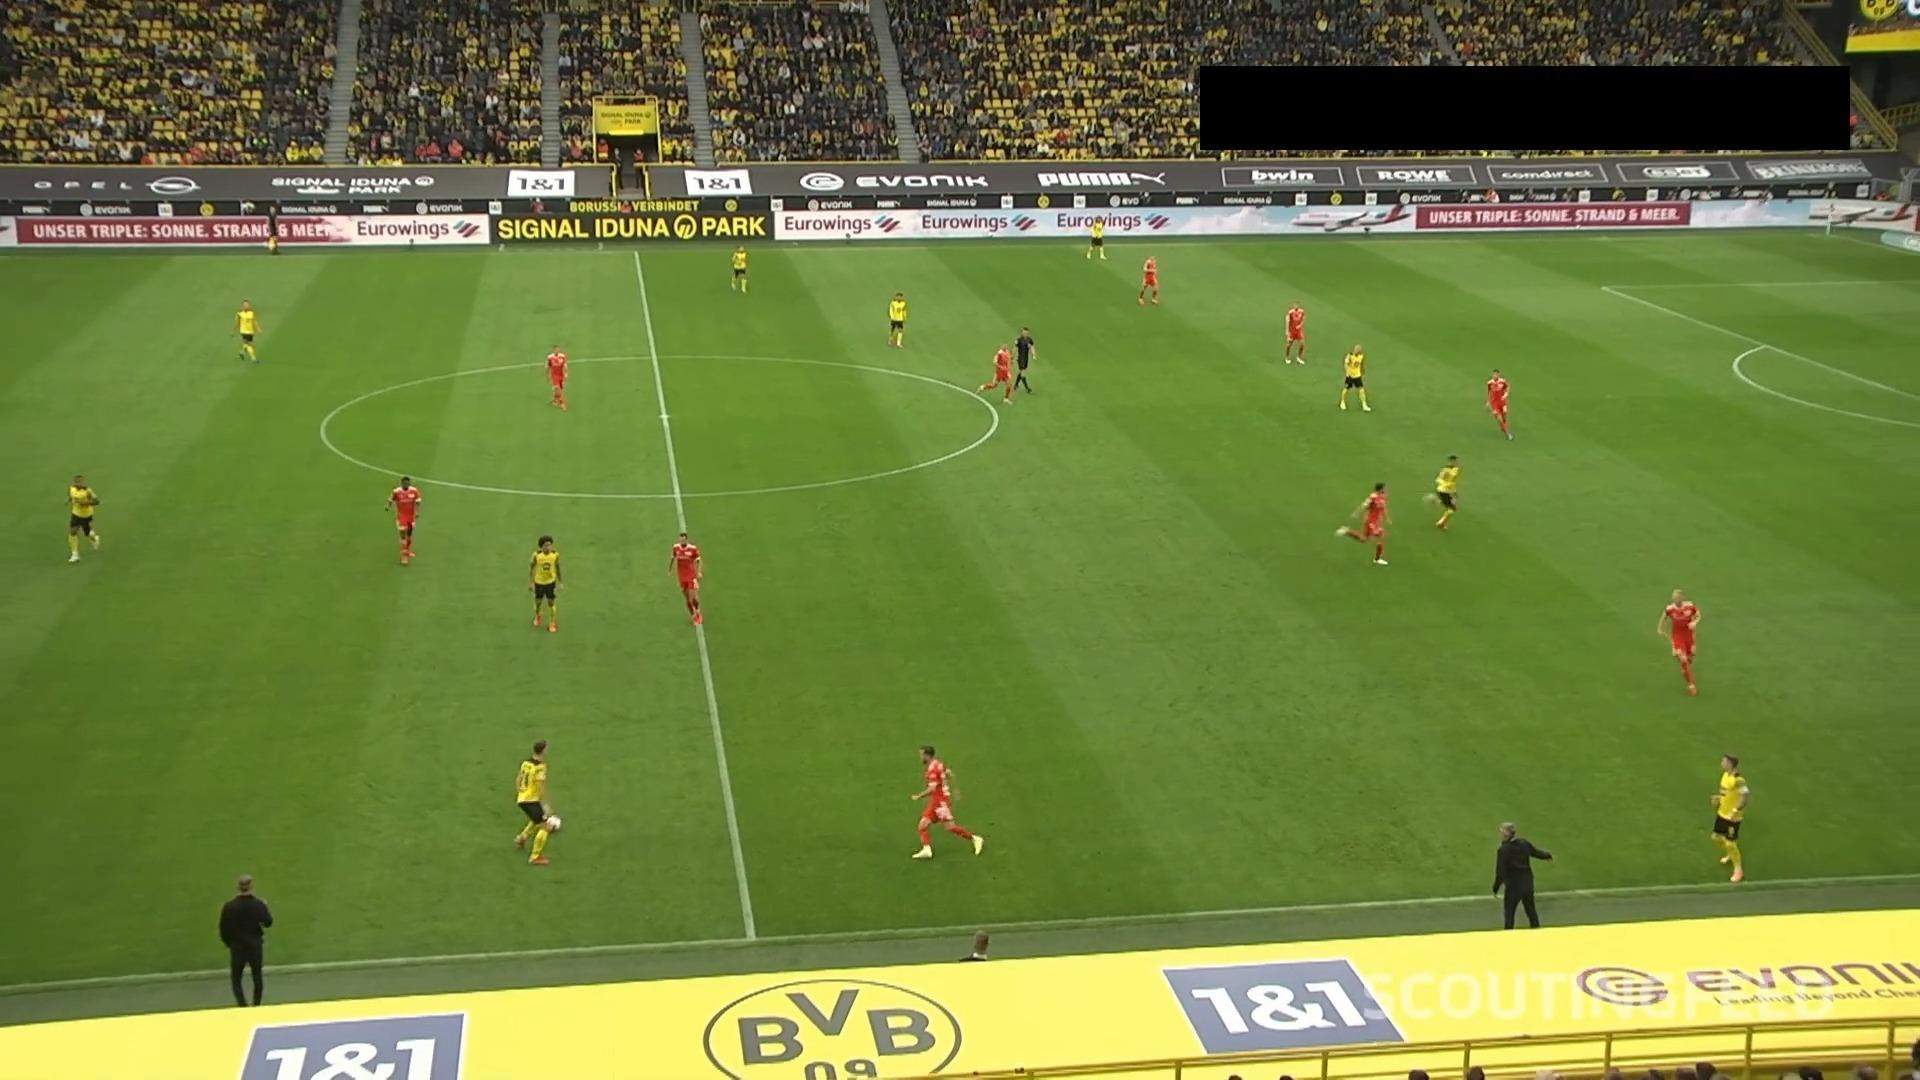ball: (543, 812, 564, 835)
